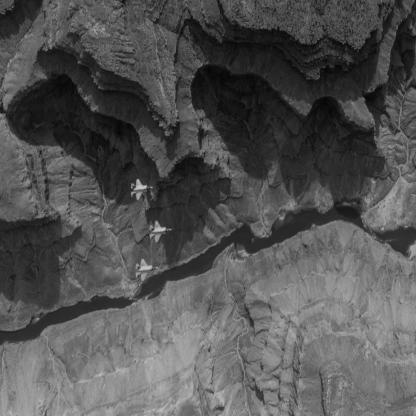F35: (136, 259, 160, 283), (131, 179, 155, 202), (150, 221, 173, 244)
